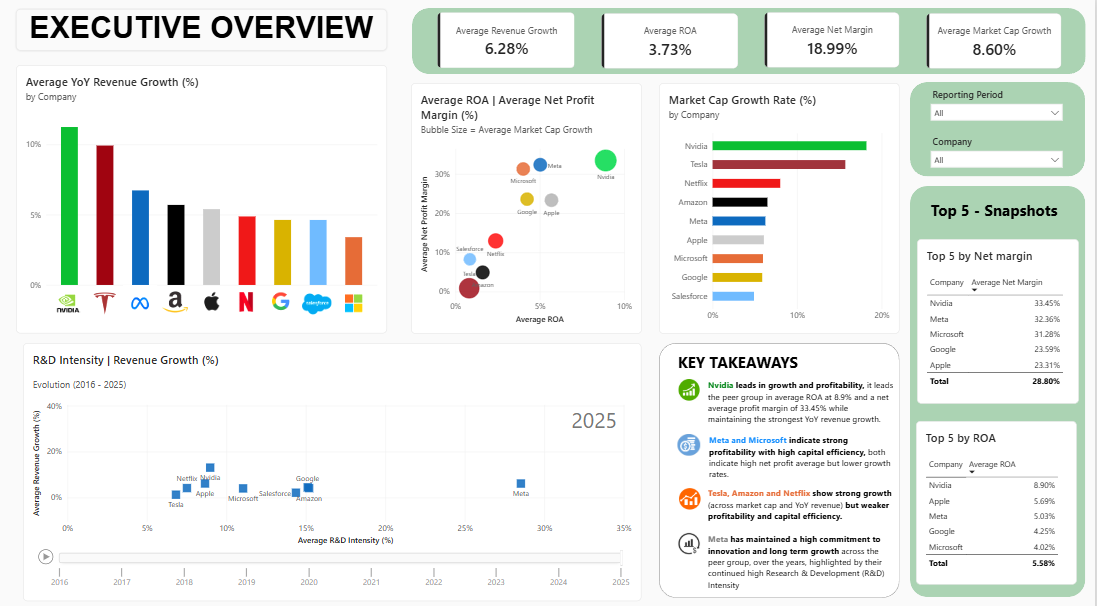

What the dashboard file says about the page in this screenshot:
{"tool":"powerbi","page":{"name":"Executive Overview","canvas":[1920,1080],"ordinal":0},"visuals":[{"type":"clusteredColumnChart","title":"Average YoY Revenue Growth (%)","fields":{"Category":["public financial_performance.company"],"Y":["Computations.Avg_Revenue_Growth%"]},"box":[28.3,113.2,650.8,470.9],"z":0,"group":"g3"},{"type":"shape","box":[1595.7,144.3,307.1,165.7],"z":0},{"type":"shape","box":[722,14,1182,116],"z":1000},{"type":"image","box":[95.9,506.5,48.3,51.1],"z":1000,"group":"g3"},{"type":"shape","box":[1596.1,326.4,307.6,721.1],"z":2000},{"type":"image","box":[162.5,506.5,45.3,51.1],"z":2000,"group":"g3"},{"type":"slicer","fields":{"Values":["public financial_performance.reporting_period"]},"box":[1628.5,153.8,240.9,70.1],"z":3000},{"type":"image","box":[215.5,498.6,60.1,62.1],"z":3000,"group":"g3"},{"type":"slicer","fields":{"Values":["public financial_performance.company"]},"box":[1628.5,237.5,240.9,71.8],"z":4000},{"type":"image","box":[281.4,506.5,52.4,45.7],"z":4000,"group":"g3"},{"type":"textbox","box":[28.3,16.2,650.8,72.8],"z":5000},{"type":"image","box":[345.1,506.5,52.4,45.7],"z":5000,"group":"g3"},{"type":"cardVisual","fields":{"Data":["Computations.Avg_Net_Profit_Margin%"]},"box":[1340,21.3,238.2,98.5],"z":6000,"group":"g2"},{"type":"cardVisual","fields":{"Data":["Computations.Avg_Market_Cap_growth%"]},"box":[1625.1,23.4,238.2,98.5],"z":6000,"group":"g5"},{"type":"scatterChart","title":"Average ROA | Average Net Profit Margin (%)","fields":{"Category":["public financial_performance.company"],"Size":["Computations.Avg_Market_Cap_growth%"],"X":["Computations.Avg_ROA"],"Y":["Computations.Avg_Net_Profit_Margin%"]},"box":[721.7,145,405,440],"z":6000},{"type":"image","box":[412.8,512,38.9,35.3],"z":6000,"group":"g3"},{"type":"group","id":"g1","title":"Group 1","box":[766.3,21.7,241.4,98.5],"z":7000},{"type":"image","box":[530.6,500.4,52.4,63.3],"z":7000,"group":"g3"},{"type":"group","id":"g2","title":"Group 3","box":[1340,21.3,238.2,98.5],"z":8000},{"type":"image","box":[600.1,509.5,41.2,42.6],"z":8000,"group":"g3"},{"type":"group","id":"g3","title":"Group 2","box":[28.3,113.2,650.8,470.9],"z":9000},{"type":"image","box":[471.1,506.5,44.2,43.2],"z":9000,"group":"g3"},{"type":"barChart","title":"Market Cap Growth Rate (%)","fields":{"Category":["public financial_performance.company"],"Y":["Computations.Avg_Market_Cap_growth%"]},"box":[1156.7,145,421.7,440],"z":10000},{"type":"group","id":"g4","title":"Group 4","box":[1054.7,23.3,241.4,98.5],"z":11000},{"type":"cardVisual","fields":{"Data":["Computations.Avg_Revenue_Growth%"]},"box":[766.3,21.7,241.4,98.5],"z":12000,"group":"g1"},{"type":"group","id":"g5","title":"Group 3","box":[1625.1,23.4,238.2,98.5],"z":12000},{"type":"cardVisual","fields":{"Data":["Computations.Avg_ROA"]},"box":[1054.7,23.3,241.4,98.5],"z":13000,"group":"g4"},{"type":"tableEx","title":"Top 5 by Net margin","fields":{"Values":["public financial_performance.company","Computations.Avg_Net_Profit_Margin%"]},"box":[1608,418.7,283.7,288.8],"z":13000},{"type":"tableEx","title":"Top 5 by ROA","fields":{"Values":["public financial_performance.company","Computations.Avg_ROA"]},"box":[1606.3,738.2,282,287.1],"z":14000},{"type":"textbox","box":[1611.7,348.3,263.3,56.7],"z":15000},{"type":"shape","box":[1157,602,422,447],"z":16000},{"type":"textbox","box":[1242.5,665,325,87.5],"z":17000},{"type":"textbox","box":[1190,615.6,297.8,40],"z":18000},{"type":"textbox","box":[1243.3,761.7,325,85],"z":19000},{"type":"image","box":[1182.5,665,52.5,37.5],"z":20000},{"type":"textbox","box":[1241.7,855,325,68.3],"z":21000},{"type":"image","box":[1183.3,856.7,51.7,38.3],"z":22000},{"type":"image","box":[1182.5,761.2,52.5,37.5],"z":23000},{"type":"scatterChart","title":"R&D Intensity | Revenue Growth (%)","fields":{"Category":["public financial_performance.company"],"Play":["public financial_performance.year"],"X":["Computations.Avg_RnD_intensity%"],"Y":["Computations.Avg_Revenue_Growth%"]},"box":[40,602.5,1085,452.5],"z":24000},{"type":"textbox","box":[1241.7,935,325,101.7],"z":25000},{"type":"image","box":[1178.3,930,60,48.3],"z":26000}]}

Visuals, with their boxes in screenshot pixels (x1, y1, x2, y2), scaled from the page's 1920x1080 canvas onto the 1097x606 screenshot:
"Average YoY Revenue Growth (%)" clusteredColumnChart: box(16, 64, 388, 328)
shape: box(912, 81, 1087, 174)
shape: box(413, 8, 1088, 73)
image: box(55, 284, 82, 313)
shape: box(912, 183, 1088, 588)
image: box(93, 284, 119, 313)
slicer - public financial_performance.reporting_period: box(930, 86, 1068, 126)
image: box(123, 280, 157, 315)
slicer - public financial_performance.company: box(930, 133, 1068, 174)
image: box(161, 284, 191, 310)
textbox: box(16, 9, 388, 50)
image: box(197, 284, 227, 310)
cardVisual - Computations.Avg_Net_Profit_Margin%: box(766, 12, 902, 67)
cardVisual - Computations.Avg_Market_Cap_growth%: box(929, 13, 1065, 68)
"Average ROA | Average Net Profit Margin (%)" scatterChart: box(412, 81, 644, 328)
image: box(236, 287, 258, 307)
"Group 1" group: box(438, 12, 576, 67)
image: box(303, 281, 333, 316)
"Group 3" group: box(766, 12, 902, 67)
image: box(343, 286, 366, 310)
"Group 2" group: box(16, 64, 388, 328)
image: box(269, 284, 294, 308)
"Market Cap Growth Rate (%)" barChart: box(661, 81, 902, 328)
"Group 4" group: box(603, 13, 741, 68)
cardVisual - Computations.Avg_Revenue_Growth%: box(438, 12, 576, 67)
"Group 3" group: box(929, 13, 1065, 68)
cardVisual - Computations.Avg_ROA: box(603, 13, 741, 68)
"Top 5 by Net margin" tableEx: box(919, 235, 1081, 397)
"Top 5 by ROA" tableEx: box(918, 414, 1079, 575)
textbox: box(921, 195, 1071, 227)
shape: box(661, 338, 902, 589)
textbox: box(710, 373, 896, 422)
textbox: box(680, 345, 850, 368)
textbox: box(710, 427, 896, 475)
image: box(676, 373, 706, 394)
textbox: box(709, 480, 895, 518)
image: box(676, 481, 706, 502)
image: box(676, 427, 706, 448)
"R&D Intensity | Revenue Growth (%)" scatterChart: box(23, 338, 643, 592)
textbox: box(709, 525, 895, 582)
image: box(673, 522, 708, 549)
